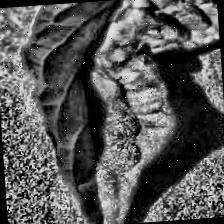disease: (18, 0, 224, 224)
